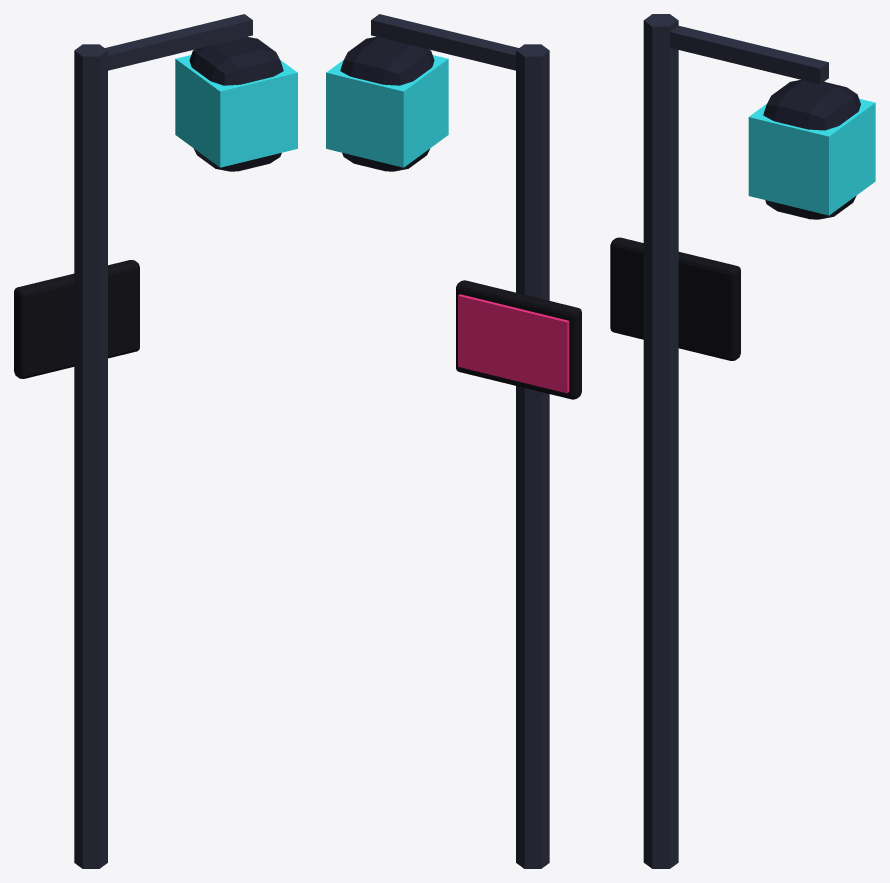
The model's file is pf_lampadaire.glb.
The picture shows the model from 3 angles, left to right: view 1: azimuth 30°, elevation 25°; view 2: azimuth 150°, elevation 25°; view 3: azimuth 330°, elevation 25°; orthographic projection. The views are drawn at different scales.
Parts seen in each view (by area): view 1: p_cyl.121, p_box.1393, p_rbox.146, p_rbox.145, p_box.1392; view 2: p_cyl.121, p_box.1393, p_box.1394, p_rbox.145, p_rbox.146, p_box.1392; view 3: p_cyl.121, p_box.1393, p_rbox.146, p_rbox.145, p_box.1392.
Part boxes in pixels (x1,y1,x2,y2): p_cyl.121: (74,44,107,868); p_box.1393: (175,55,297,167); p_rbox.146: (14,260,139,378); p_rbox.145: (189,36,283,171); p_box.1392: (105,14,252,70); p_cyl.121: (516,44,549,868); p_box.1393: (326,55,448,167); p_box.1394: (458,294,569,393); p_rbox.145: (340,36,434,171); p_rbox.146: (456,280,581,399); p_box.1392: (371,14,518,70); p_cyl.121: (643,14,678,868); p_box.1393: (748,98,875,215); p_rbox.146: (610,237,740,360); p_rbox.145: (763,80,860,219); p_box.1392: (670,25,828,84).
Size of the model in its own units: 1.01 by 3.2 by 0.32.
